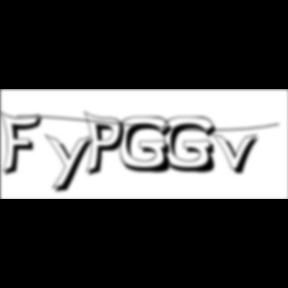F: (0, 110, 48, 178)
G: (120, 116, 179, 176), (163, 116, 222, 176)
P: (84, 110, 130, 180)
v: (211, 131, 265, 177)
y: (45, 132, 99, 196)
